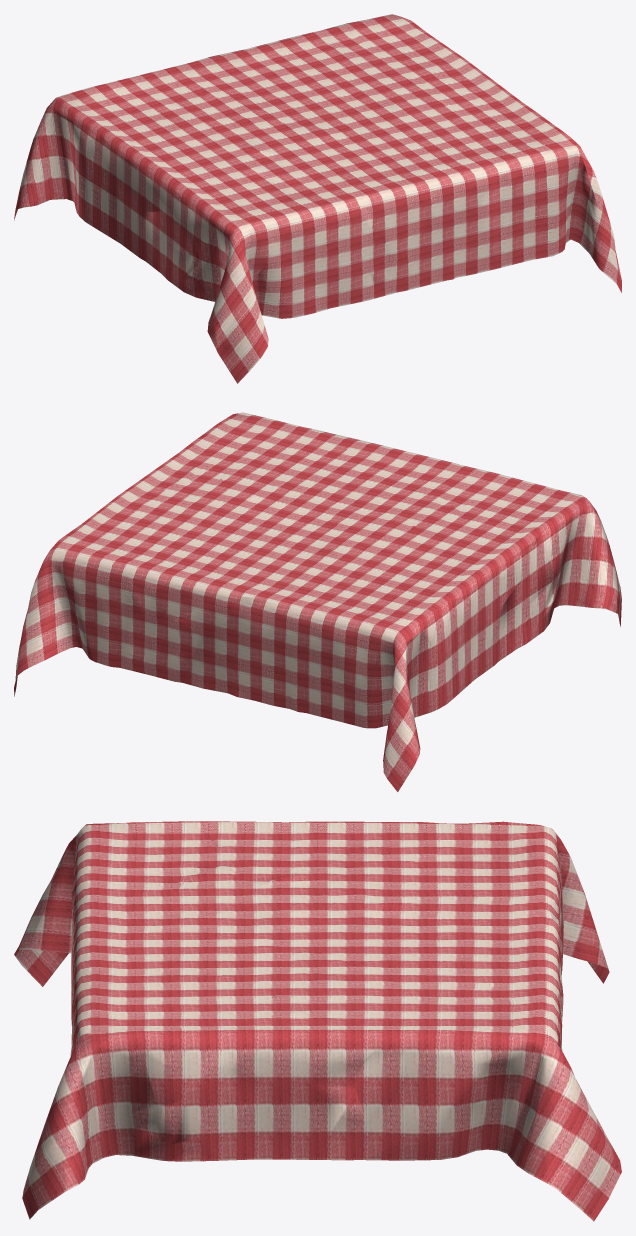
File: Tablecloth 2.FBX
3 renders of one model, top to bottom at view 1: azimuth 30°, elevation 25°; view 2: azimuth 150°, elevation 25°; view 3: azimuth 270°, elevation 25°, orthographic. The views are drawn at different scales.
Parts seen in each view (by area): view 1: tablecloth 2; view 2: tablecloth 2; view 3: tablecloth 2.
Part boxes in pixels (x1,y1,x2,y2): tablecloth 2: [14, 14, 621, 383]; tablecloth 2: [14, 412, 621, 791]; tablecloth 2: [14, 821, 621, 1221].
Bounding box in the file's own units: 112 × 38.27 × 118.
1 material, 1 textured.
